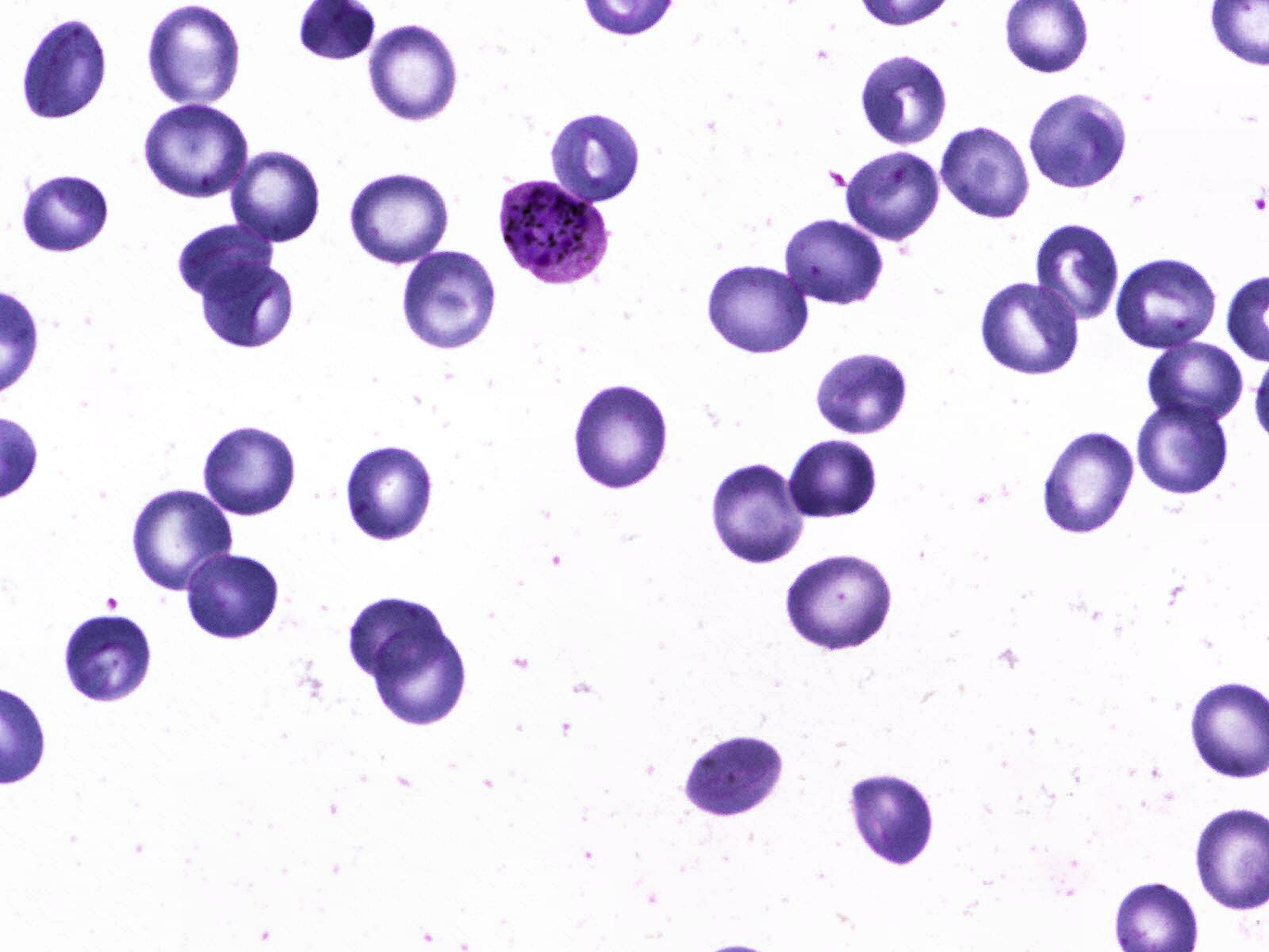Infected: (496, 180, 609, 284)
Uninfected: (569, 383, 673, 491), (129, 489, 236, 593), (1026, 91, 1133, 192), (1044, 427, 1142, 536), (704, 260, 813, 357), (785, 555, 894, 651), (144, 3, 242, 109), (144, 105, 251, 200), (981, 278, 1080, 379), (710, 461, 804, 566), (365, 20, 460, 123), (403, 248, 496, 353), (842, 149, 944, 244), (199, 422, 297, 520), (1116, 258, 1218, 351), (374, 625, 466, 728), (349, 174, 450, 267), (681, 732, 787, 820), (20, 14, 106, 122), (782, 219, 885, 307), (1137, 399, 1229, 497), (182, 551, 282, 639), (550, 111, 640, 207), (347, 443, 434, 542), (178, 221, 278, 305), (940, 128, 1031, 220), (1035, 225, 1121, 321), (230, 151, 319, 243), (849, 775, 936, 869), (201, 261, 293, 349), (1148, 341, 1241, 428), (814, 353, 909, 436), (349, 597, 444, 680), (22, 171, 114, 255), (864, 54, 948, 146), (62, 618, 151, 704), (787, 436, 880, 516)
